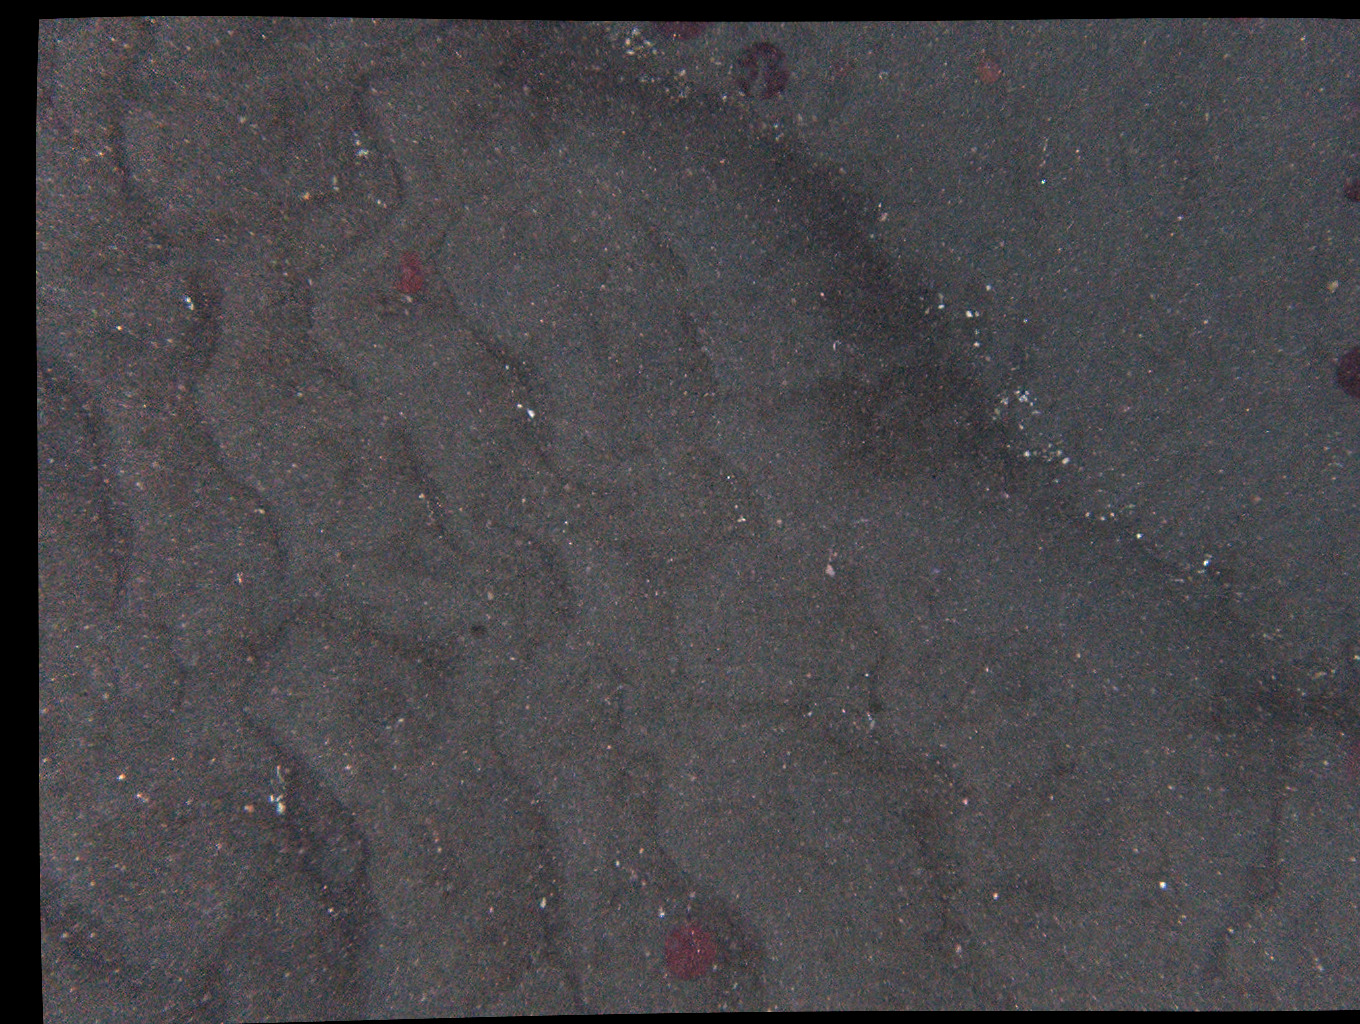Substrate A: (139, 65, 162, 85)
sand dollar: (732, 40, 793, 99), (665, 926, 727, 984), (386, 251, 439, 300), (812, 51, 851, 99), (959, 52, 998, 100), (1329, 349, 1360, 406), (1329, 161, 1360, 218), (653, 22, 716, 46)
